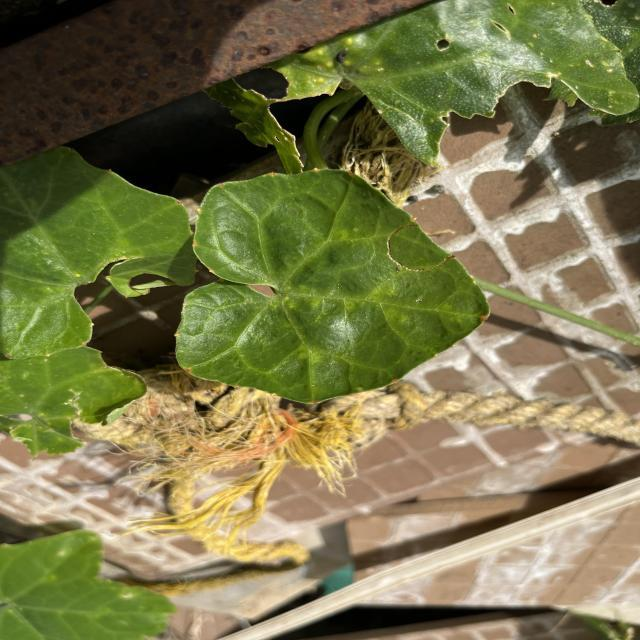Coccinia grandis: (173, 163, 494, 406)
